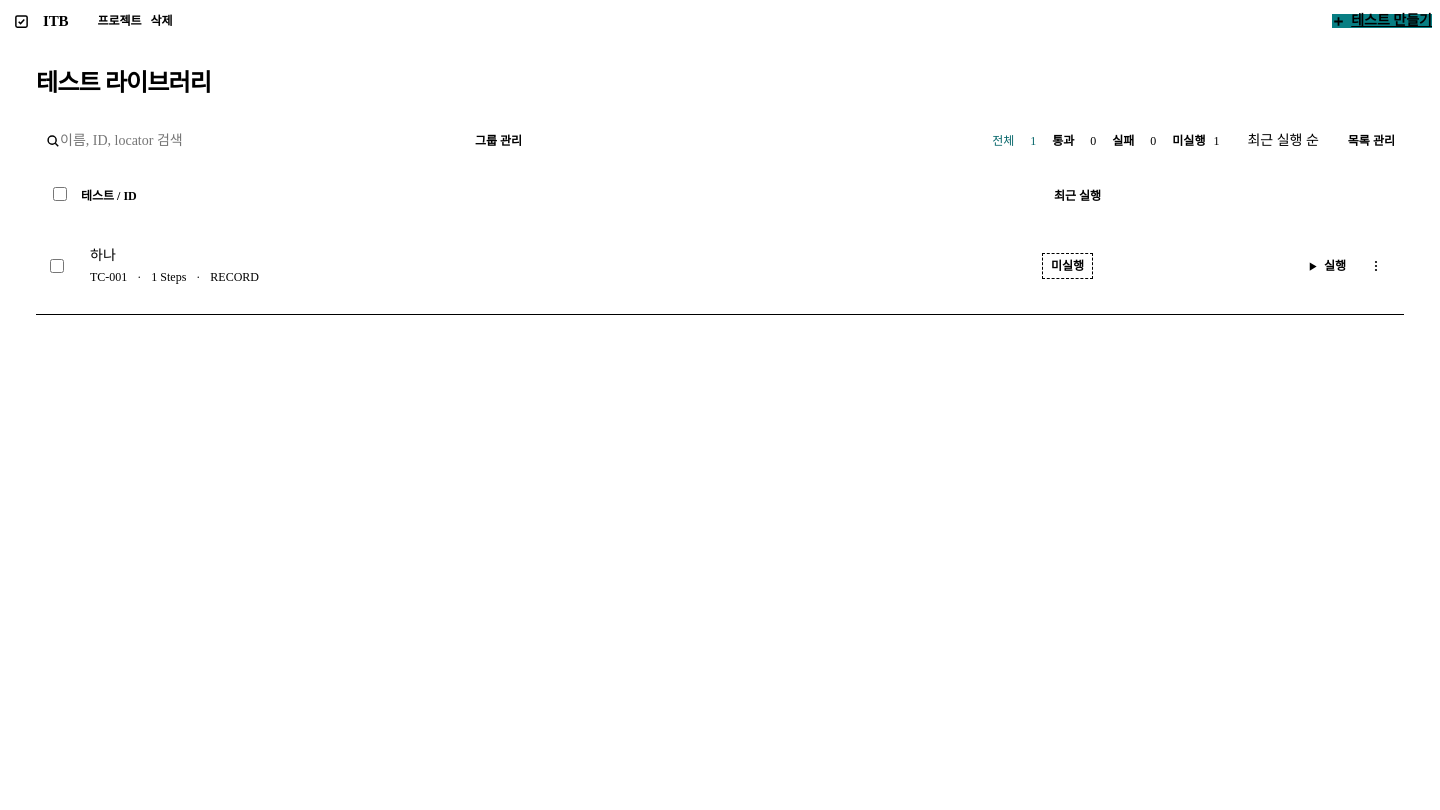
Test: 이미 없던 것을 옮겼다고 말하지 않는다 (AS-046) › 한 개 — 옮긴 표시 대신 이미 지워져 있었다고 알린다
Click the button named "하나 추가 동작" at (1376, 266), box [1362,258,1390,274]
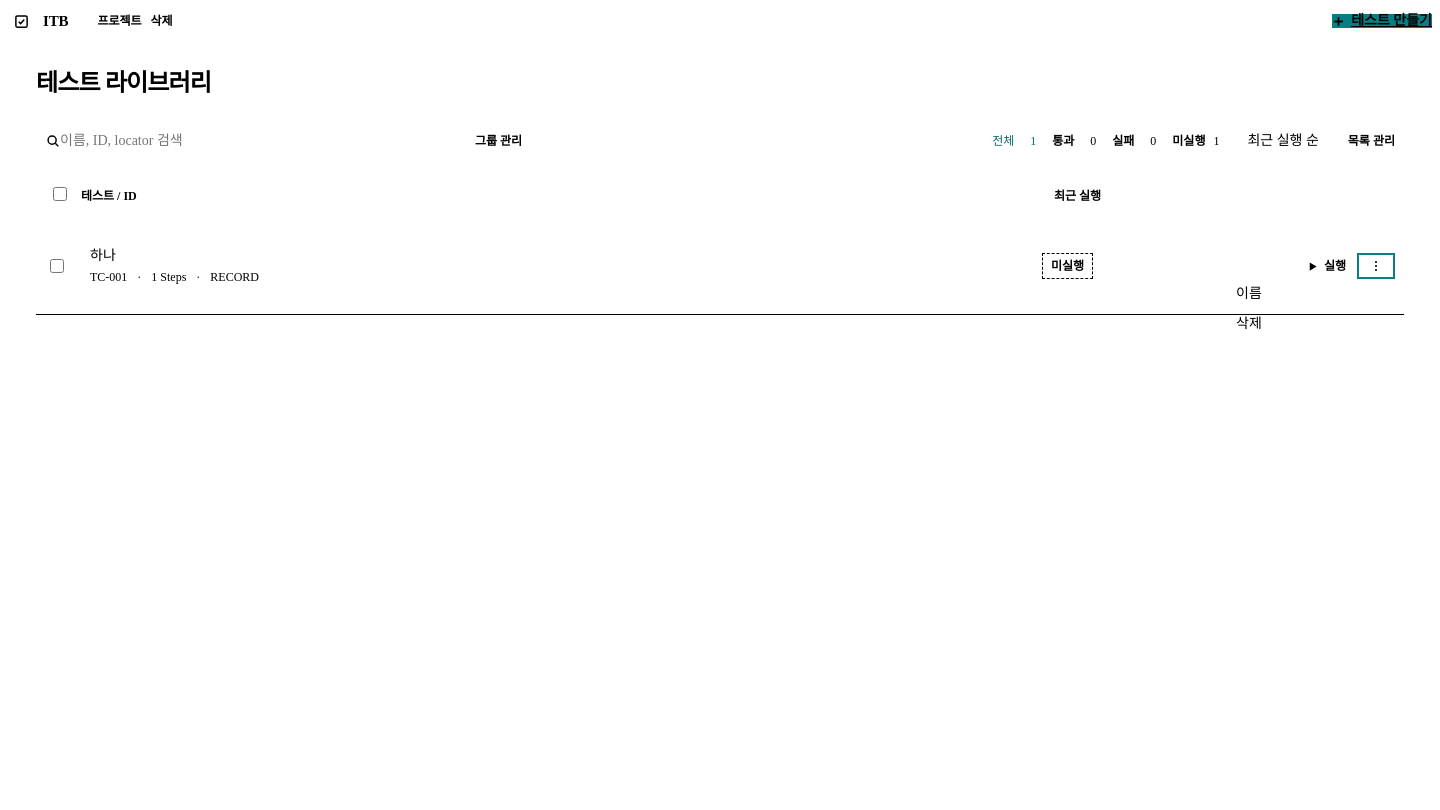
expect the menu is shown: met, box [1236,286,1262,331]
Click the menu item "삭제" at (1249, 324), box [1236,316,1262,331]
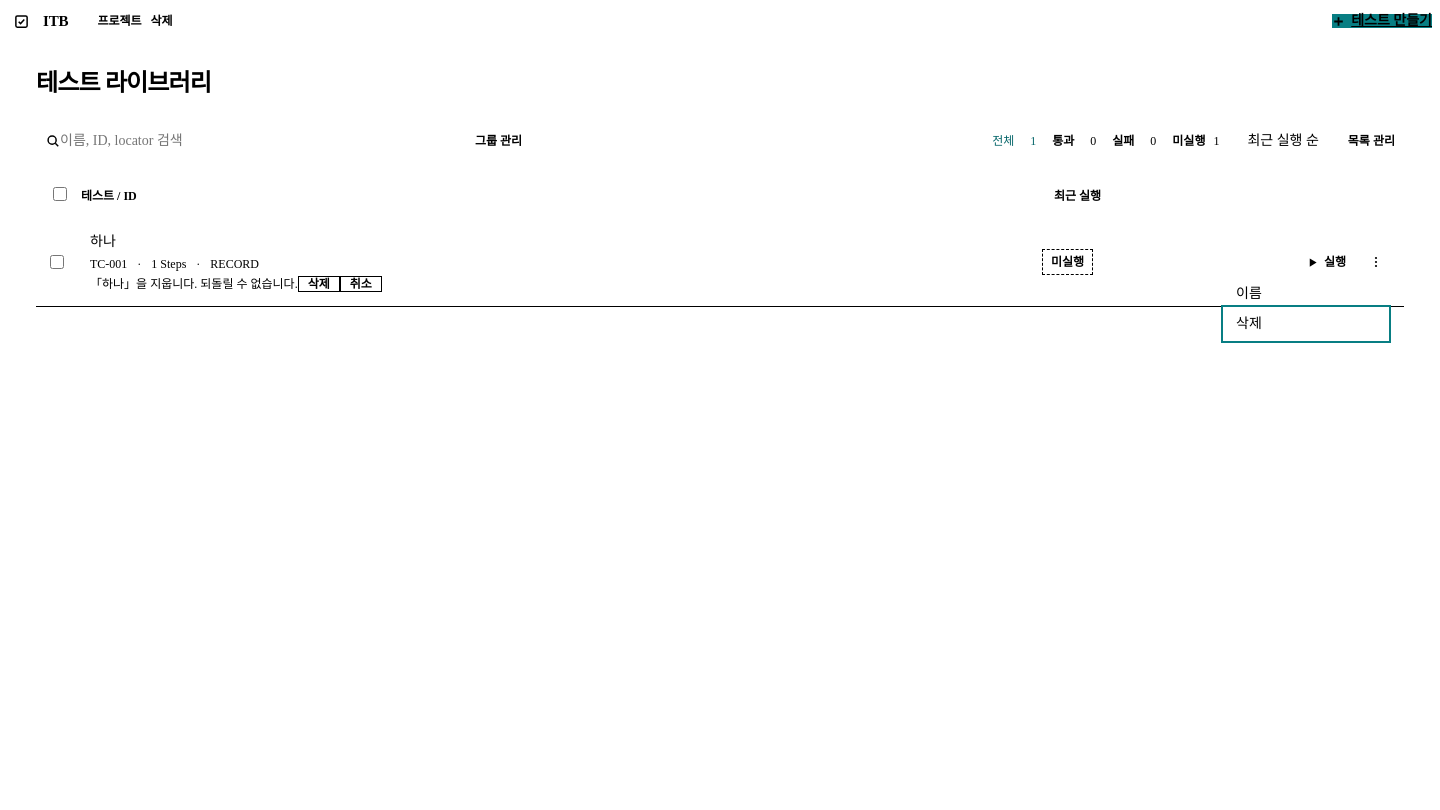
Click the button "삭제" at (319, 284), box [298,276,340,292]
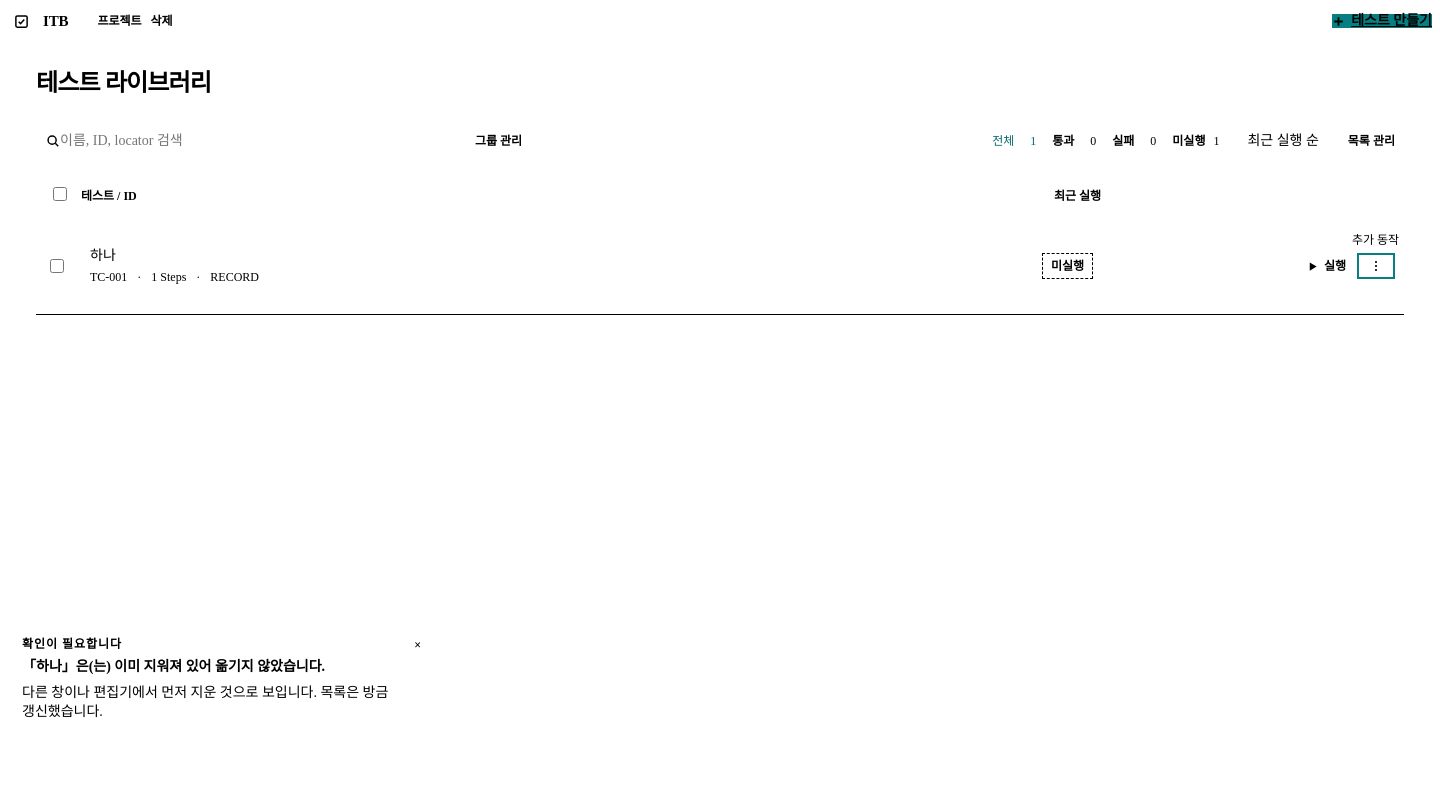
expect the message is shown: met, box [8,638,407,722]
expect the text "「하나」은(는) 이미 지워져 있어 옮기지 않았습니다." is shown: met, box [22,659,325,674]
